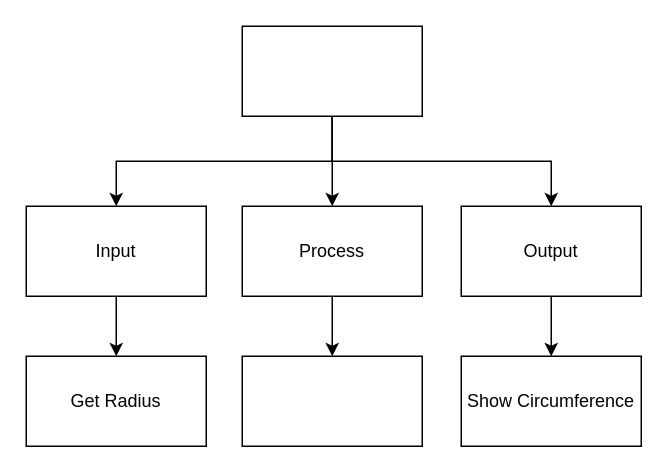
Some shapes in this 668 by 473 pixel diagram are drawn without their labels. Each missing label, with the box of its shape:
Circumference: (241, 25, 422, 116)
Circumference = Tau*radius: (241, 355, 422, 446)
